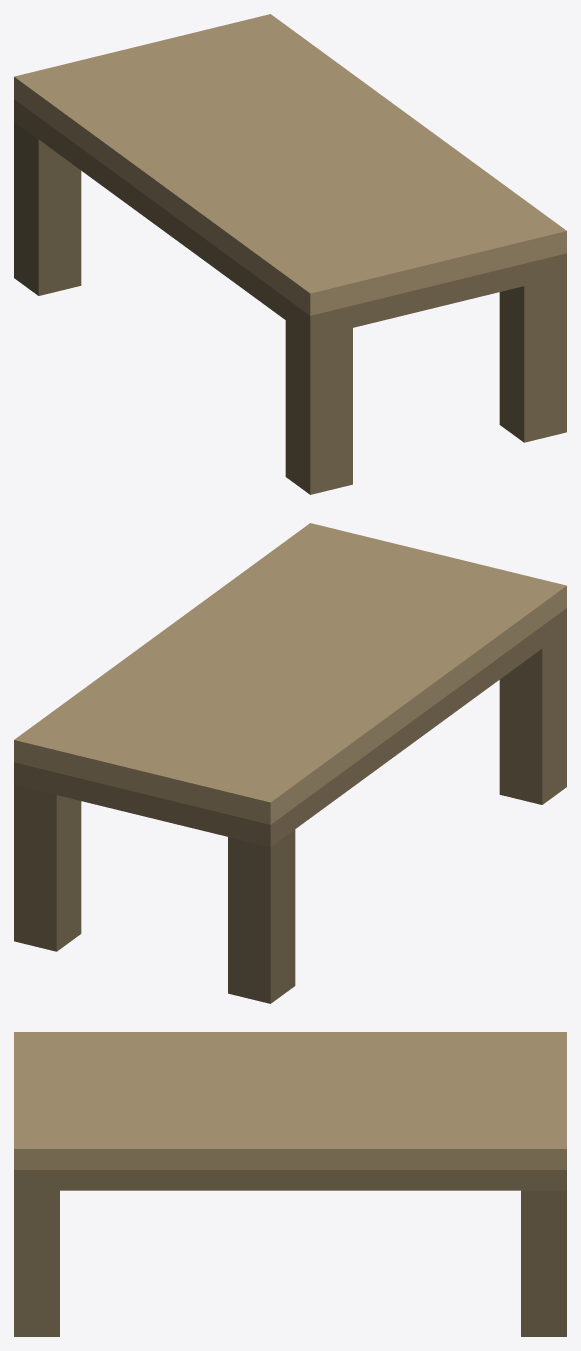
File: mesa_ensamblaje_desgastada_01.glb
3 views of the same model, one above another, from view 1: azimuth 30°, elevation 25°; view 2: azimuth 150°, elevation 25°; view 3: azimuth 270°, elevation 25° (orthographic). The views are drawn at different scales.
Visible parts, largest first — view 1: mesa_ensamblaje_desgastada; view 2: mesa_ensamblaje_desgastada; view 3: mesa_ensamblaje_desgastada.
Part boxes in pixels (left/top/right/bottom): mesa_ensamblaje_desgastada: left=14, top=14, right=566, bottom=494; mesa_ensamblaje_desgastada: left=14, top=523, right=566, bottom=1003; mesa_ensamblaje_desgastada: left=14, top=1032, right=566, bottom=1336.
Size of the model in its own units: 1 by 0.75 by 2.
